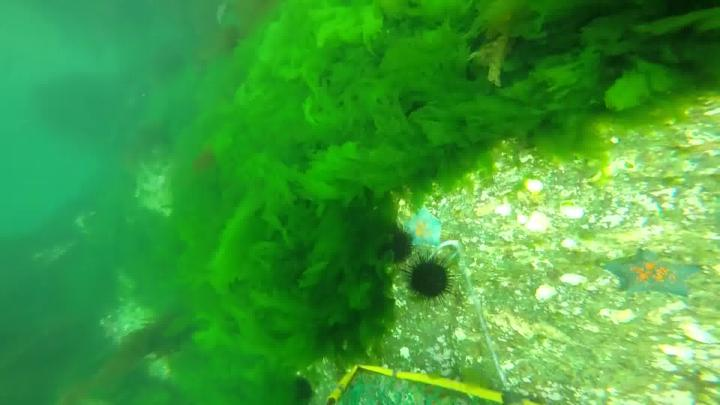echinus: (403, 256, 456, 313), (388, 230, 412, 262), (290, 377, 311, 405)
scallop: (681, 321, 720, 344), (561, 203, 586, 220), (536, 287, 557, 304), (525, 178, 544, 194), (560, 275, 587, 286)
starfish: (598, 252, 702, 300), (408, 211, 442, 250)
